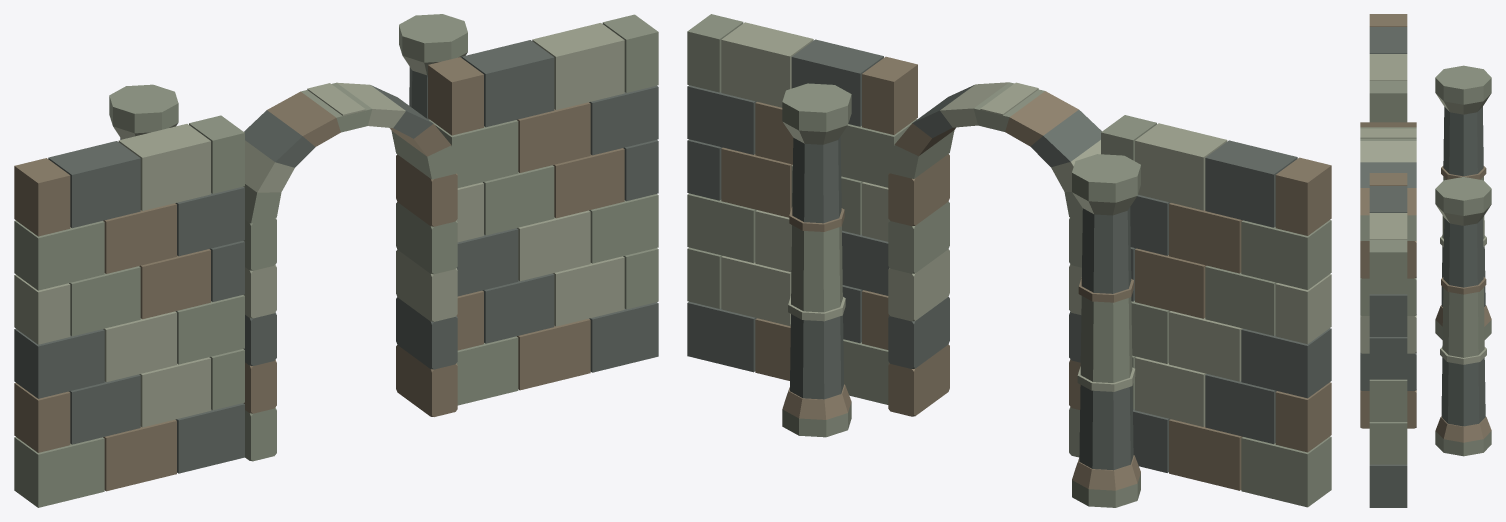
Rendered from ruin_entry.glb.
3 renders of one model, left to right at view 1: azimuth 30°, elevation 25°; view 2: azimuth 150°, elevation 25°; view 3: azimuth 270°, elevation 25°, orthographic. The views are drawn at different scales.
Parts seen in each view (by area): view 1: ruin_entry; view 2: ruin_entry; view 3: ruin_entry.
Boxes of the visible parts, bbox=[...] form: ruin_entry: bbox=[14, 14, 658, 507]; ruin_entry: bbox=[687, 14, 1331, 507]; ruin_entry: bbox=[1360, 14, 1491, 507].
Bounding box in the file's own units: 6 × 3 × 1.4.
